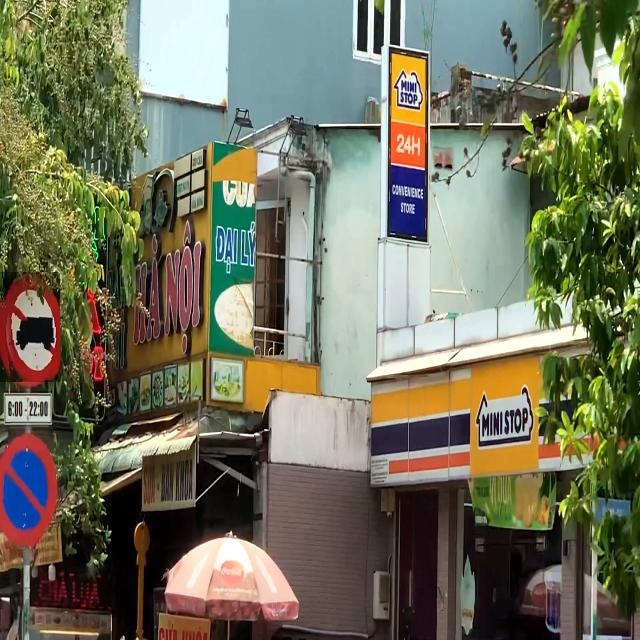bien_cam: (0, 431, 62, 549), (0, 272, 60, 382)
